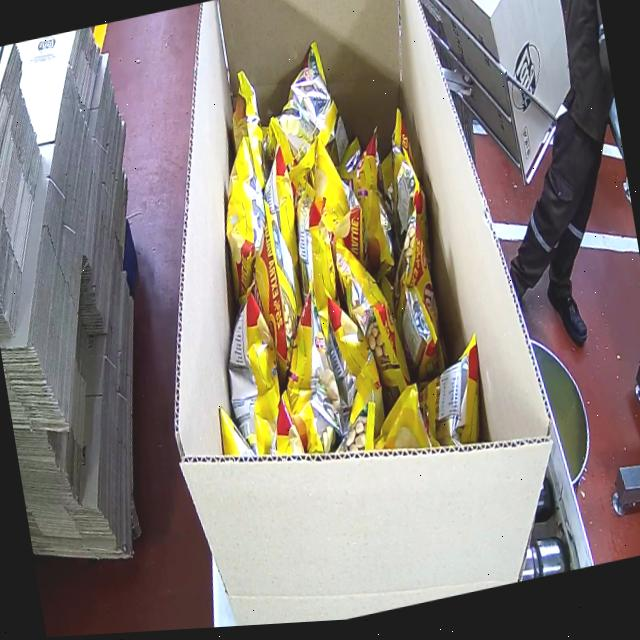SALTED: (162, 29, 496, 485)
